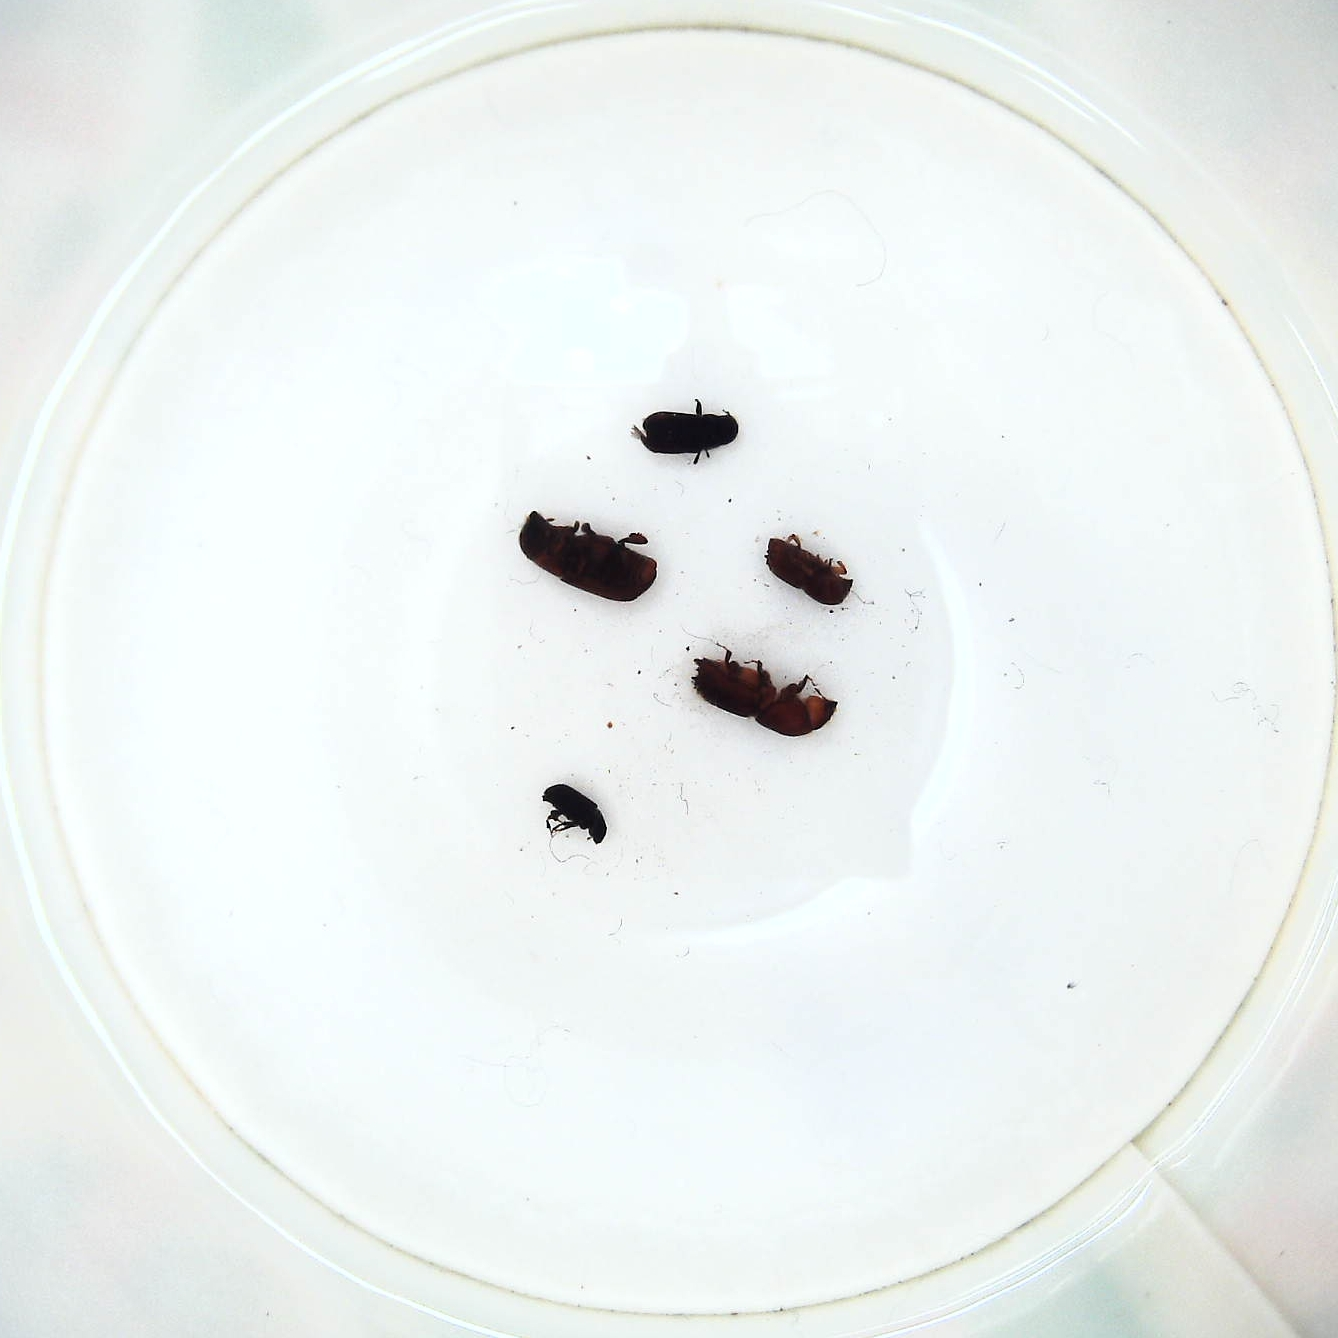Boerner: (682, 644, 847, 747)
Leconte: (508, 504, 660, 609)
armandi: (627, 395, 744, 467)
coleoptera: (539, 777, 610, 850)
linnaeus: (756, 528, 856, 614)
